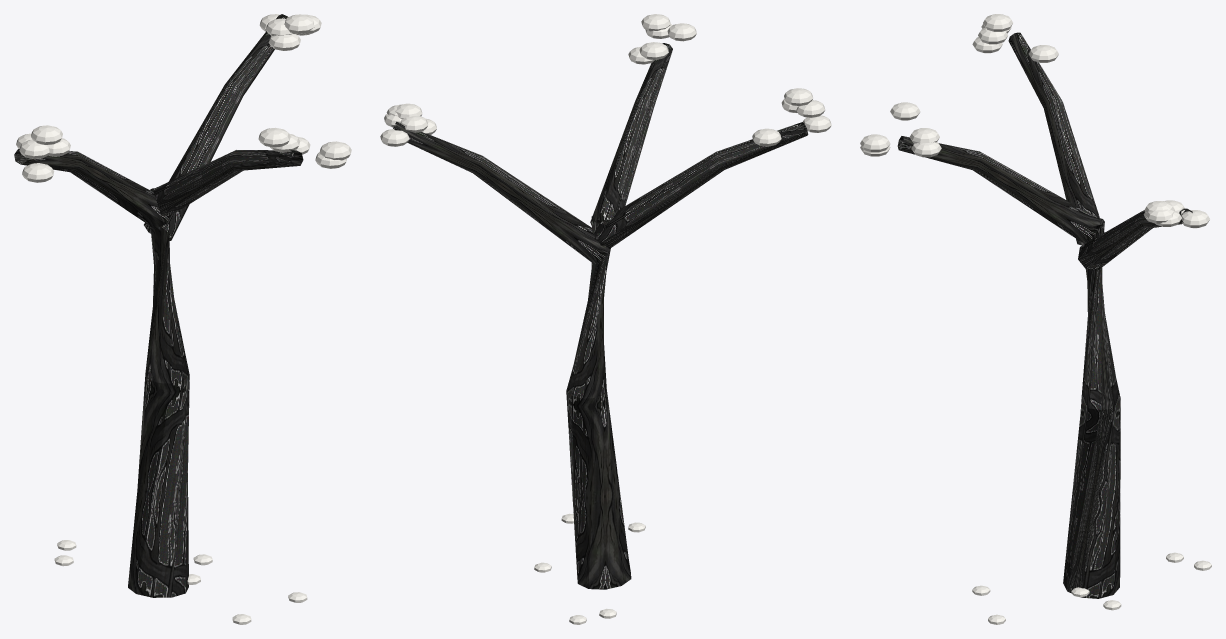
File: nghia-dia-cay-su.glb
The picture shows the model from 3 angles, left to right: view 1: azimuth 30°, elevation 25°; view 2: azimuth 150°, elevation 25°; view 3: azimuth 270°, elevation 25°; orthographic projection. The views are drawn at different scales.
Visible parts, largest first — view 1: nghia-dia-cay-su; view 2: nghia-dia-cay-su; view 3: nghia-dia-cay-su.
Boxes of the visible parts, x1=… form: nghia-dia-cay-su: x1=14, y1=14, x2=351, y2=624; nghia-dia-cay-su: x1=380, y1=14, x2=831, y2=624; nghia-dia-cay-su: x1=860, y1=14, x2=1211, y2=624.
Bounding box in the file's own units: 2.17 × 2.88 × 1.84.
2 materials, 1 textured.
